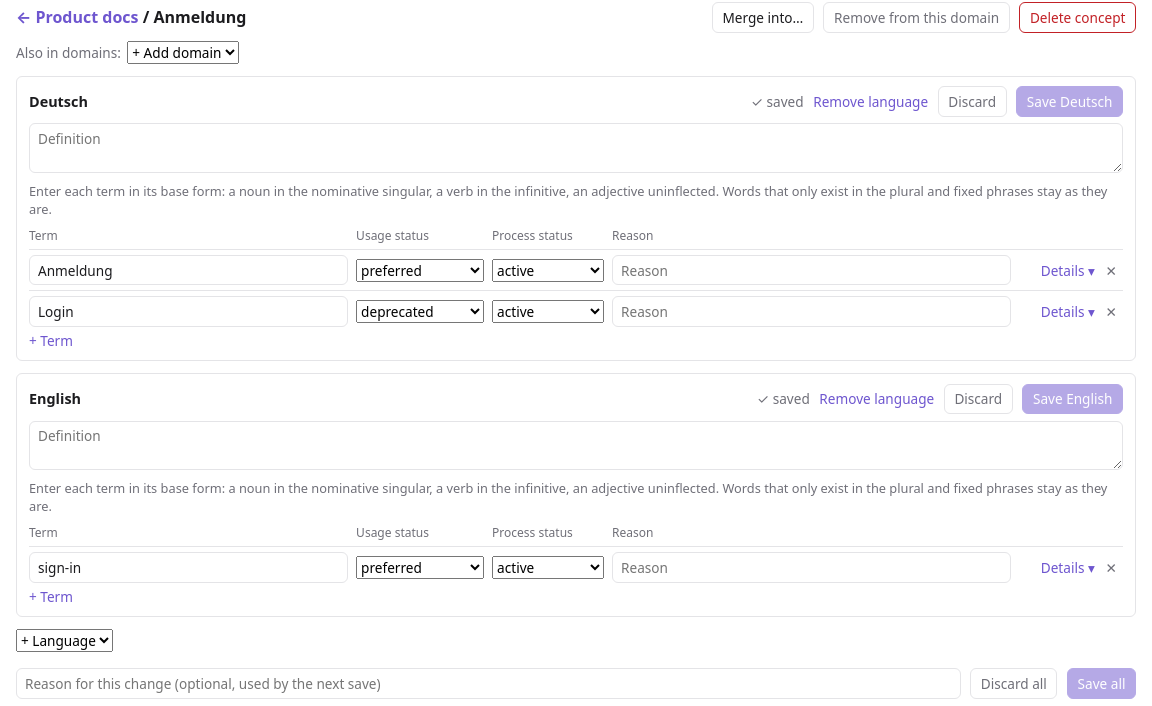
ConceptEntry checks before sending › disables the section save and shows the reason for an empty term text
The image size is (1152, 706).
Clear the 2nd field named "Term" at point(189, 311), box [29,296,348,326]
(page scrolled)
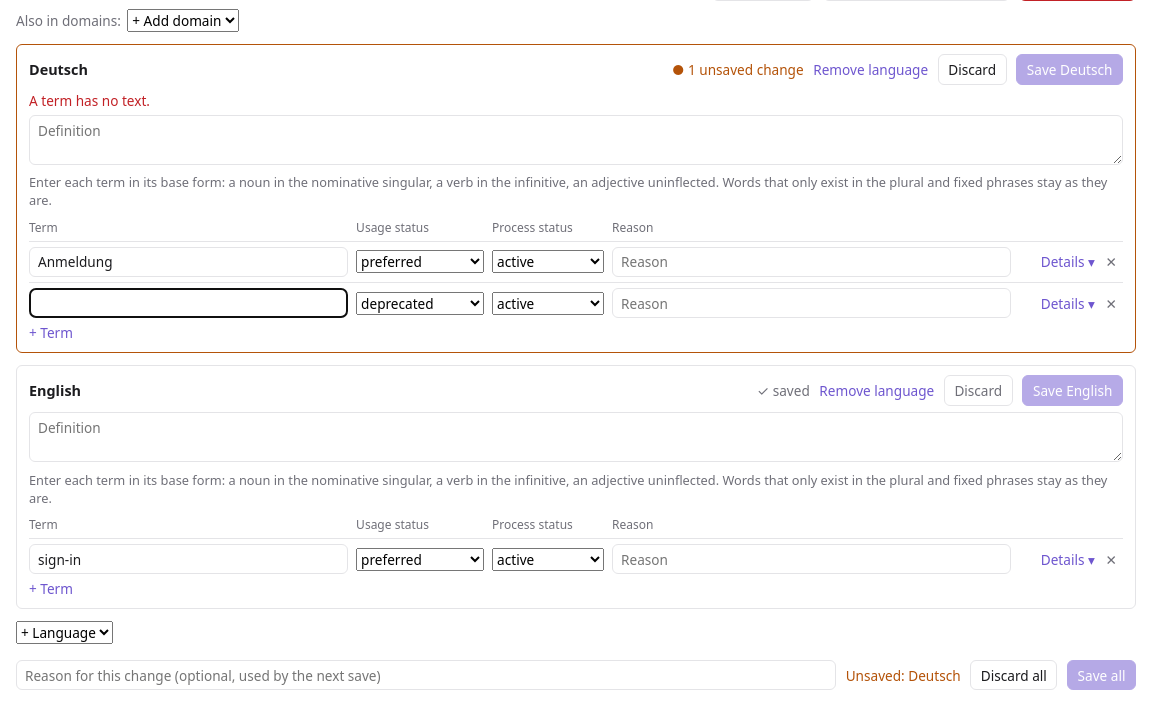
Expected: the button "Save all" is disabled, [1067,660,1136,690]
Expected: the text "A term has no text." is shown, [29,91,150,110]
